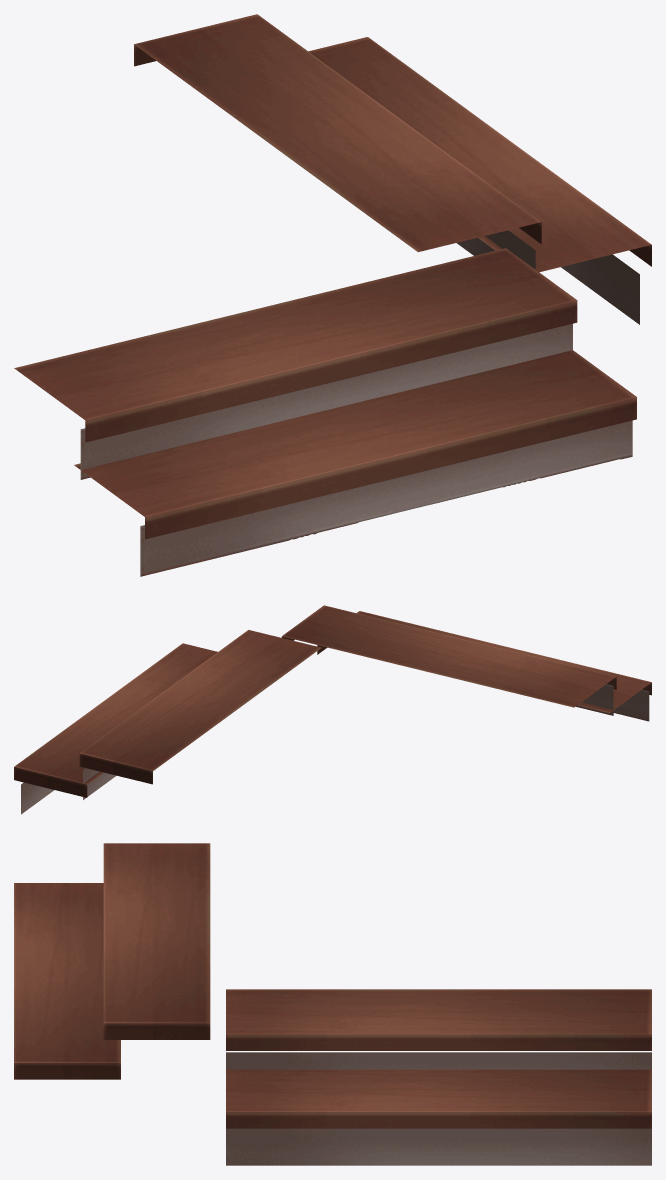
File: K1_louti.FBX
The picture shows the model from 3 angles, top to bottom: view 1: azimuth 30°, elevation 25°; view 2: azimuth 150°, elevation 25°; view 3: azimuth 270°, elevation 25°; orthographic projection. The views are drawn at different scales.
Visible parts, largest first — view 1: k1_tjie23123213, k1_tjie212321312313; view 2: k1_tjie212321312313, k1_tjie23123213; view 3: k1_tjie212321312313, k1_tjie23123213.
Boxes of the visible parts, x1,y1,x2,y2 form: k1_tjie23123213: (14,248,636,576); k1_tjie212321312313: (134,14,651,324); k1_tjie212321312313: (14,630,321,814); k1_tjie23123213: (281,605,651,721); k1_tjie212321312313: (226,989,651,1165); k1_tjie23123213: (14,843,210,1079).
Size of the model in its own units: 86.19 by 16.15 by 97.97.
